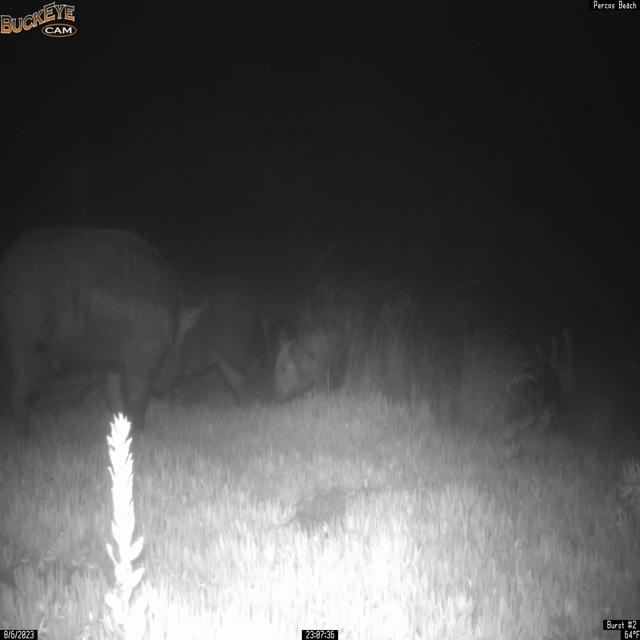pig: (0, 224, 212, 443)
